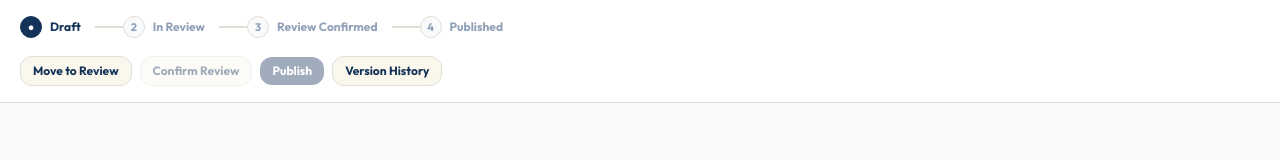
Test: PublishLifecycleBar › shows an empty-state message when there are no prior versions
The image size is (1280, 160).
Step 1. Click the button "Version History" → (387, 71), box top-left (332, 56), bottom-right (442, 86)
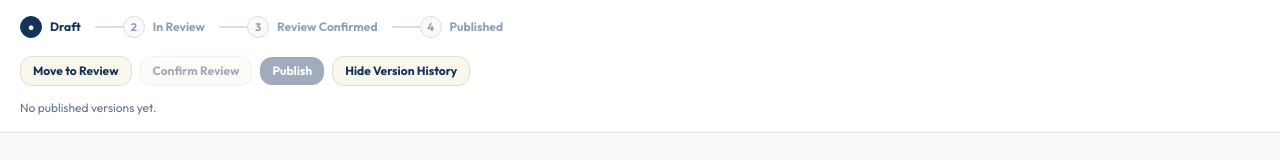
Expected: the text "No published versions yet." is shown, top-left (20, 100), bottom-right (156, 115)
